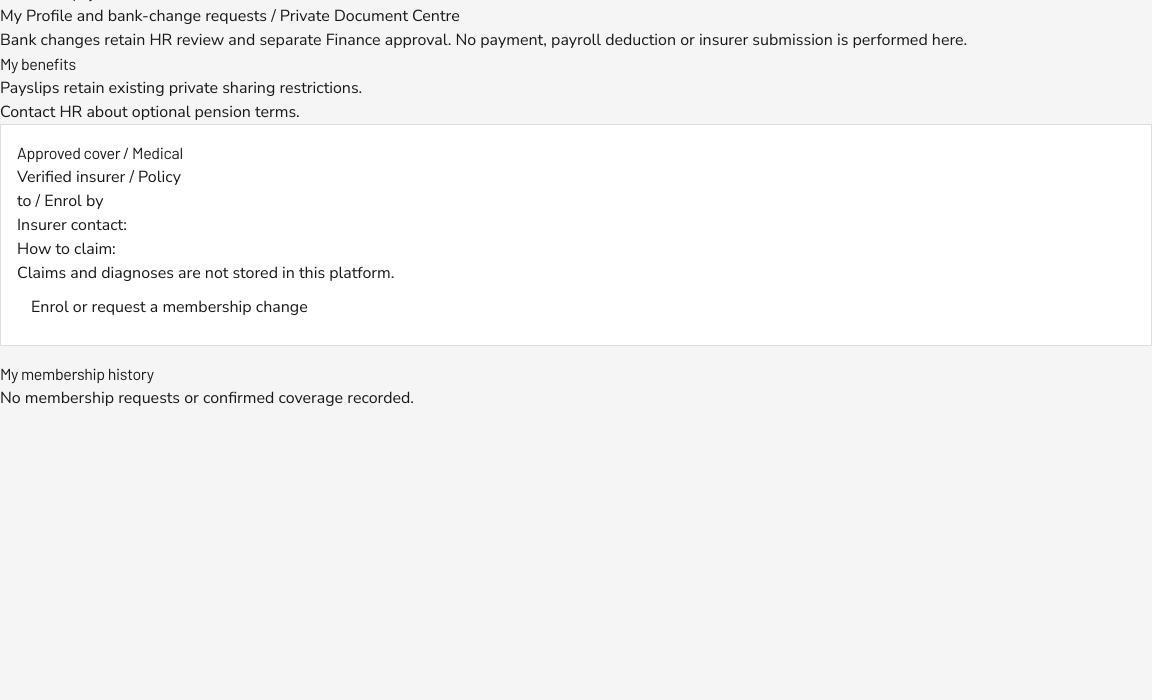
Test case: server denial stays visible and does not confirm coverage
This screenshot has width=1152, height=700.
Click the button "Enrol or request a membership change".
click(169, 307)  # box 17,285 -> 322,329
(page scrolled)
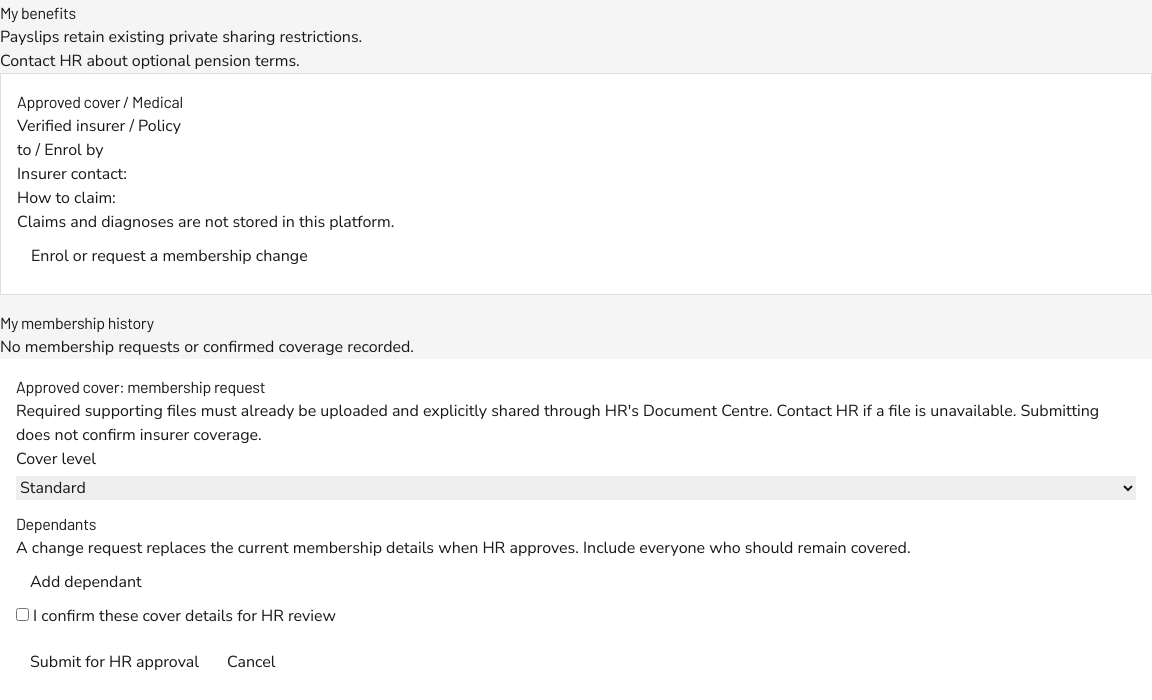
Submit the form, box 16,447 -> 1136,684
(page scrolled)
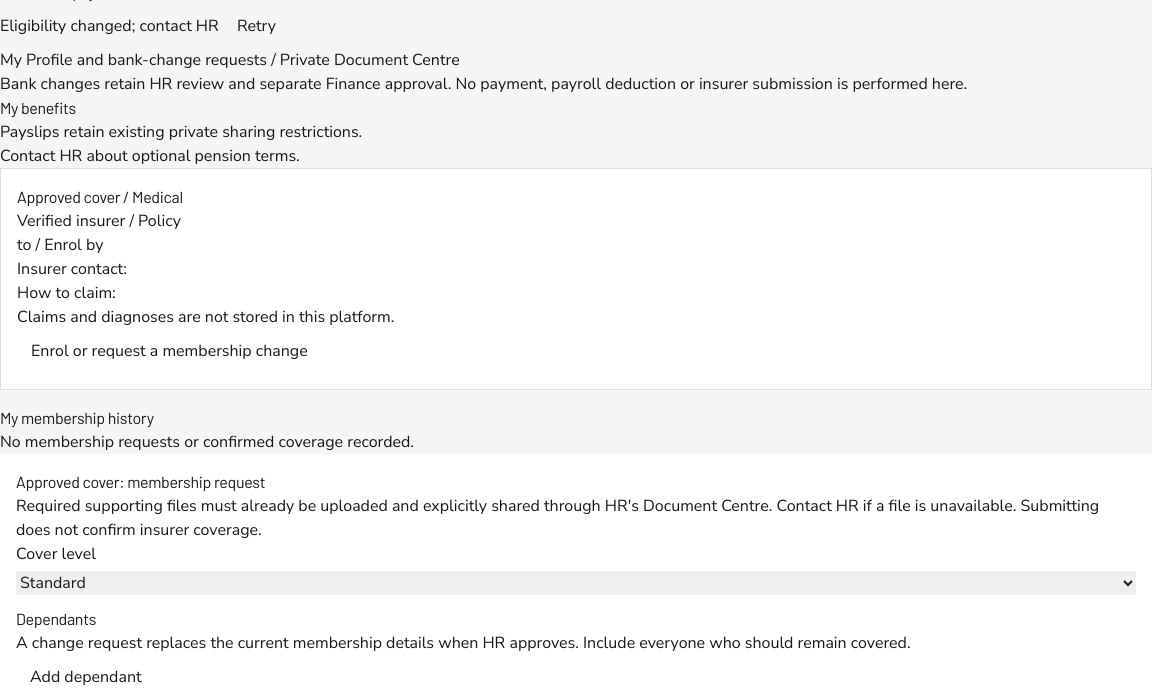
Now the message "Eligibility changed; contact HR Retry" is shown, box 0,4 -> 290,48
